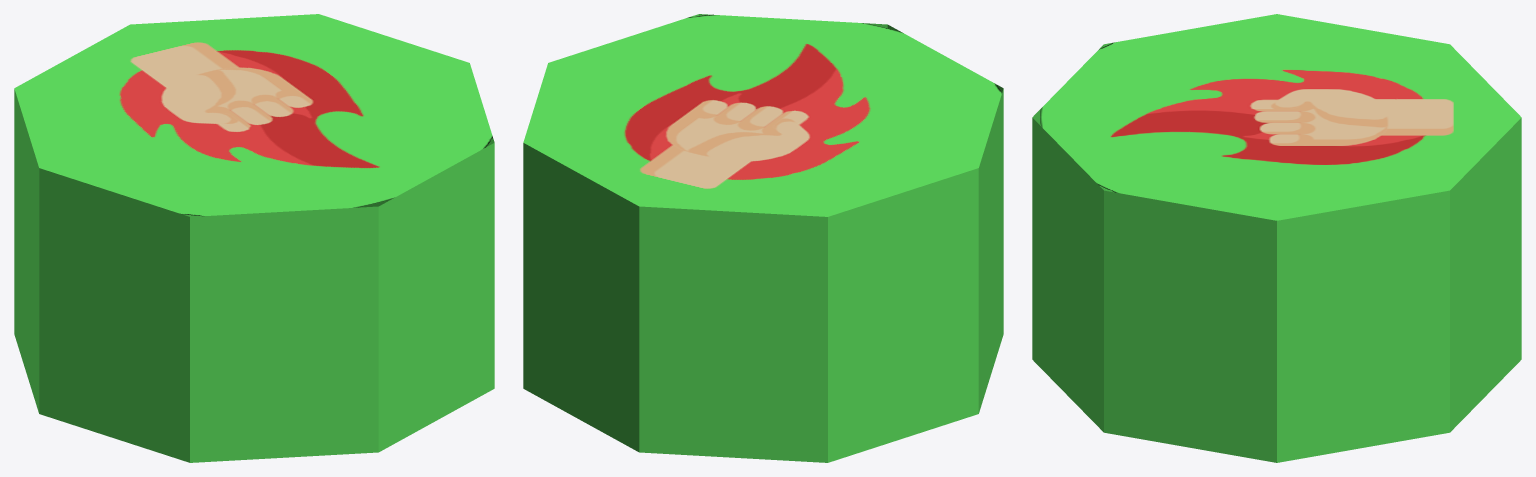
File: item_power.fbx
3 renders of one model, left to right at view 1: azimuth 30°, elevation 25°; view 2: azimuth 150°, elevation 25°; view 3: azimuth 270°, elevation 25°, orthographic.
Visible parts, largest first — view 1: Cube; view 2: Cube; view 3: Cube.
Part boxes in pixels (bbox=[...]): Cube: bbox=[14, 14, 494, 462]; Cube: bbox=[523, 14, 1003, 462]; Cube: bbox=[1032, 14, 1521, 462].
Size of the model in its own units: 200 by 109 by 200.
